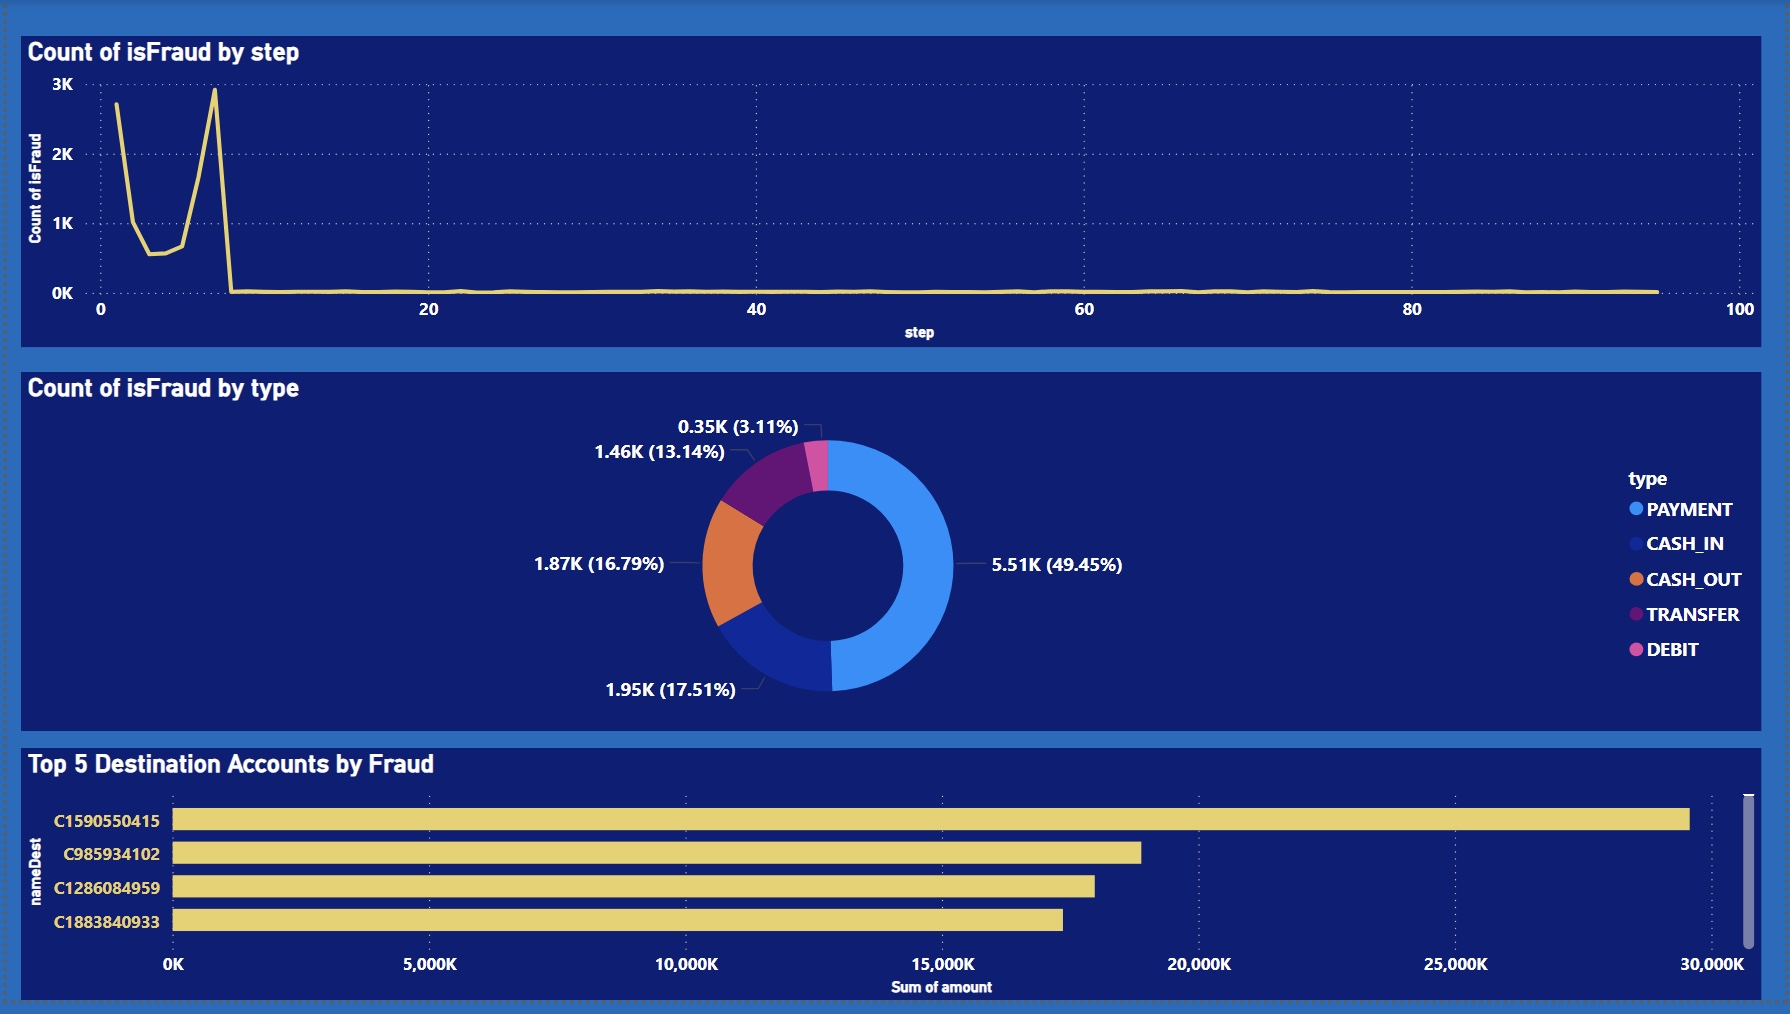

What the dashboard file says about the page in this screenshot:
{"tool":"powerbi","page":{"name":"Page 2","canvas":[1280,720],"ordinal":1},"visuals":[{"type":"lineChart","fields":{"Y":["CountNonNull(in.isFraud)"],"Category":["in.step"]},"box":[9.5,25.2,1253.2,223.8],"z":0},{"type":"donutChart","fields":{"Y":["CountNonNull(in.isFraud)"],"Category":["in.type"]},"box":[9.5,268,1253.2,258.5],"z":1000},{"type":"clusteredBarChart","title":"Top 5 Destination Accounts by Fraud","fields":{"Category":["in.nameDest"],"Y":["Sum(in.amount)"]},"box":[9.5,539.1,1253.2,182.9],"z":2000}]}

Visuals, with their boxes in screenshot pixels (x1, y1, x2, y2), scaled from the page's 1280x720 canvas onto the 1790x1014 screenshot:
lineChart - CountNonNull(in.isFraud) x in.step: 13, 35, 1766, 351
donutChart - CountNonNull(in.isFraud) x in.type: 13, 377, 1766, 741
"Top 5 Destination Accounts by Fraud" clusteredBarChart: 13, 759, 1766, 1013
